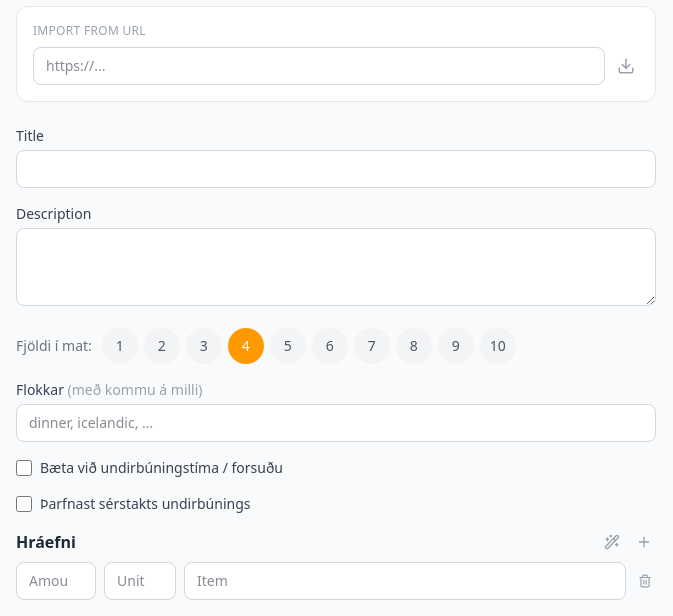
AddRecipeForm › closes parse textarea after successful parse
This screenshot has width=673, height=616.
Step 1. Click the button named "parse ingredients" → {"x": 612, "y": 542}, box [600, 530, 624, 554]
(page scrolled)
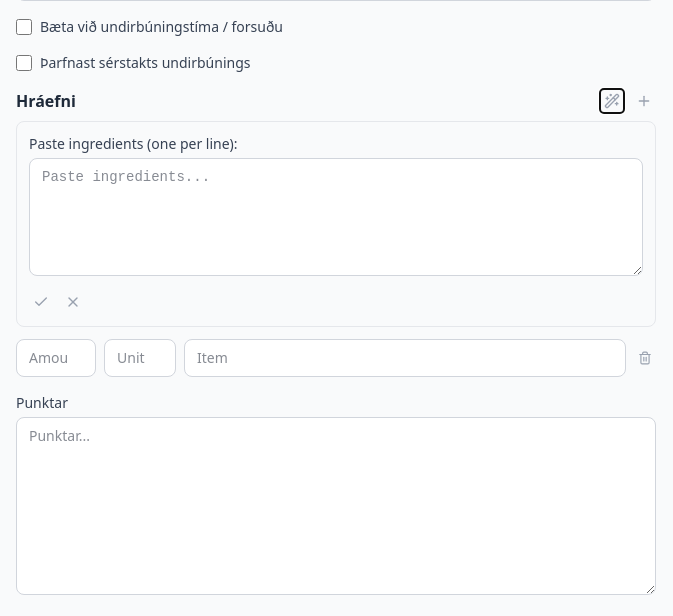
Step 2. Click the button named "parse" → {"x": 41, "y": 302}, box [29, 290, 53, 314]
(page scrolled)
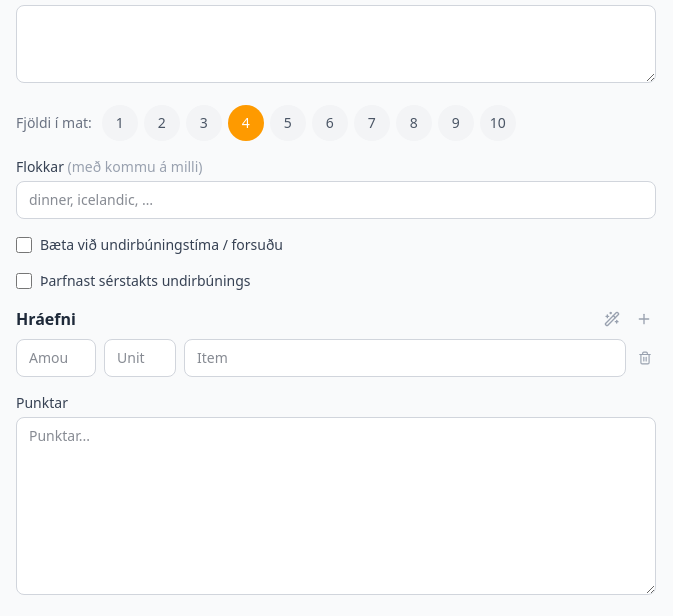
Now the label with placeholder "Paste ingredients" is gone
